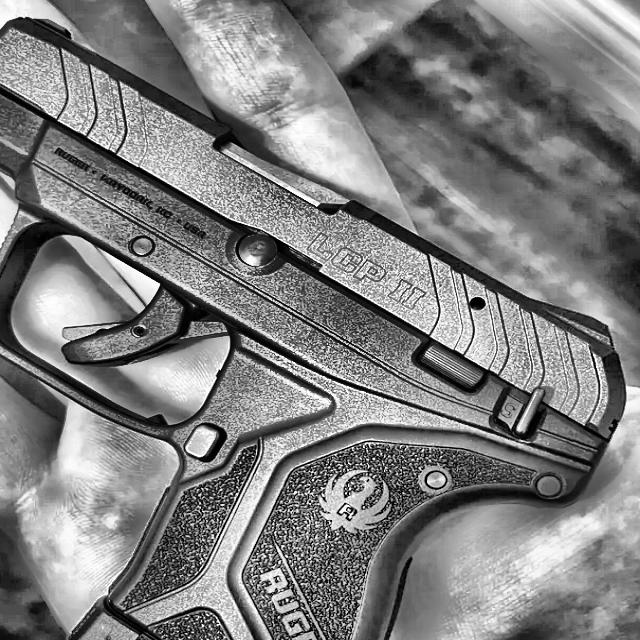Ruger: (0, 13, 629, 639)
